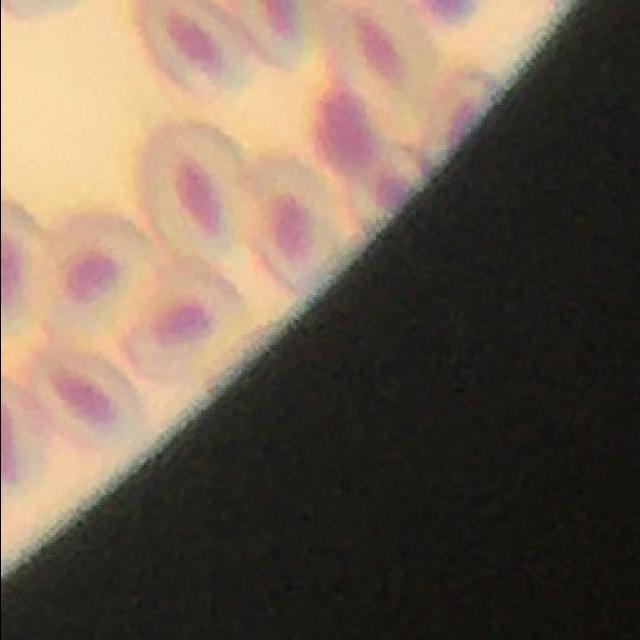RBC: (139, 121, 255, 264), (124, 261, 249, 387), (39, 214, 156, 344), (26, 342, 148, 459), (332, 0, 441, 129), (248, 157, 347, 295), (132, 0, 254, 104), (0, 202, 58, 338), (420, 67, 502, 162), (344, 140, 428, 232), (0, 374, 54, 508), (234, 0, 322, 75)
WBC: (314, 91, 380, 183)
